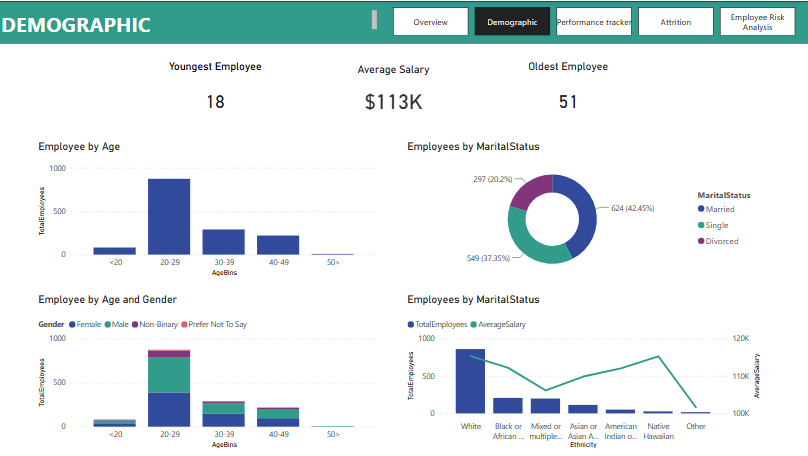

The page's visual inventory and layout, read from the dashboard file:
{"tool":"powerbi","page":{"name":"Demographic ","canvas":[1280,720],"ordinal":1},"visuals":[{"type":"card","title":"Youngest Employee","fields":{"Values":["Min(DimEmployee.Age)"]},"box":[234.4,93.4,215,98.2],"z":0},{"type":"card","title":"Oldest Employee","fields":{"Values":["Max(DimEmployee.Age)"]},"box":[799.5,93.4,199.4,98.2],"z":1000},{"type":"columnChart","title":"Employee by Age","fields":{"Y":["_Measures.TotalEmployees"],"Category":["DimEmployee.AgeBins"]},"box":[58.4,219.8,544.7,219.8],"z":2000},{"type":"columnChart","title":"Employee by Age and Gender","fields":{"Y":["_Measures.TotalEmployees"],"Category":["DimEmployee.AgeBins"],"Series":["DimEmployee.Gender"]},"box":[58.4,461,544.7,250],"z":3000},{"type":"donutChart","title":"Employees by MaritalStatus","fields":{"Category":["DimEmployee.MaritalStatus"],"Y":["_Measures.TotalEmployees"]},"box":[640,219.8,567.1,219.8],"z":4000},{"type":"advanceCardE03760C5AB684758B56AA29F9E6C257B","title":"Average Salary","fields":{"mainMeasure":["_Measures.AverageSalary"]},"box":[498,93.4,250.9,98.2],"z":5000},{"type":"lineStackedColumnComboChart","title":"Employees by MaritalStatus","fields":{"Category":["DimEmployee.Ethnicity"],"Y":["_Measures.TotalEmployees"],"Y2":["_Measures.AverageSalary"]},"box":[640,461,567.1,250],"z":6000},{"type":"shape","box":[0,0,1280,67.1],"z":7000},{"type":"textbox","box":[16.5,9.7,586.5,45.7],"z":8000},{"type":"pageNavigator","box":[623.6,9.8,638.4,45.9],"z":9000}]}

Visuals, with their boxes in screenshot pixels (x1, y1, x2, y2), scaled from the page's 1280x720 canvas onto the 808x456 screenshot:
"Youngest Employee" card: 148,59,284,121
"Oldest Employee" card: 505,59,631,121
"Employee by Age" columnChart: 37,139,381,278
"Employee by Age and Gender" columnChart: 37,292,381,450
"Employees by MaritalStatus" donutChart: 404,139,762,278
"Average Salary" advanceCardE03760C5AB684758B56AA29F9E6C257B: 314,59,473,121
"Employees by MaritalStatus" lineStackedColumnComboChart: 404,292,762,450
shape: 0,0,807,42
textbox: 10,6,381,35
pageNavigator: 394,6,797,35
